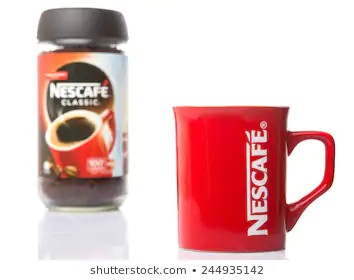nescafe-classic/gold-med: (36, 8, 132, 211)
nescafe-mug: (170, 104, 338, 257)
